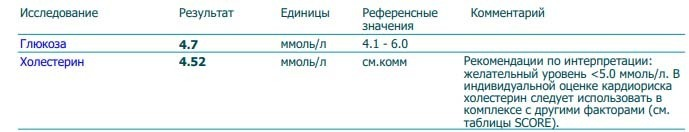column: (462, 0, 681, 129), (19, 0, 99, 129), (361, 0, 439, 129), (178, 0, 234, 129), (279, 0, 330, 129)
